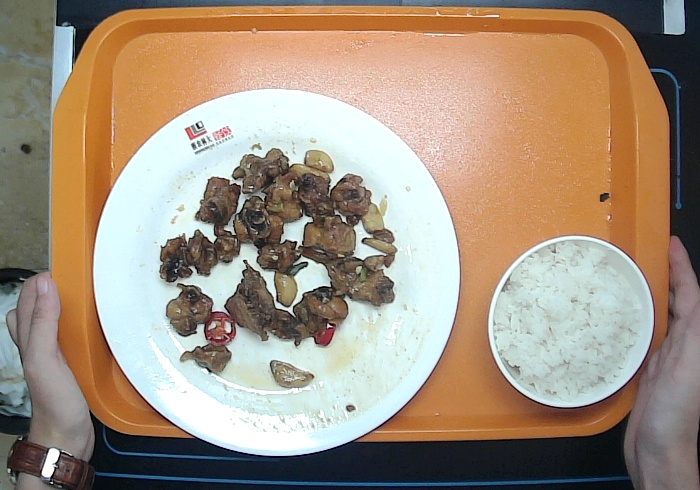ZNLD-Da_Yuan_Pan: (91, 82, 463, 458)
ZNLD-Fan_Wan: (485, 235, 656, 410)
